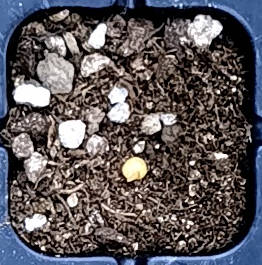pepper seed: (47, 65, 196, 248)
